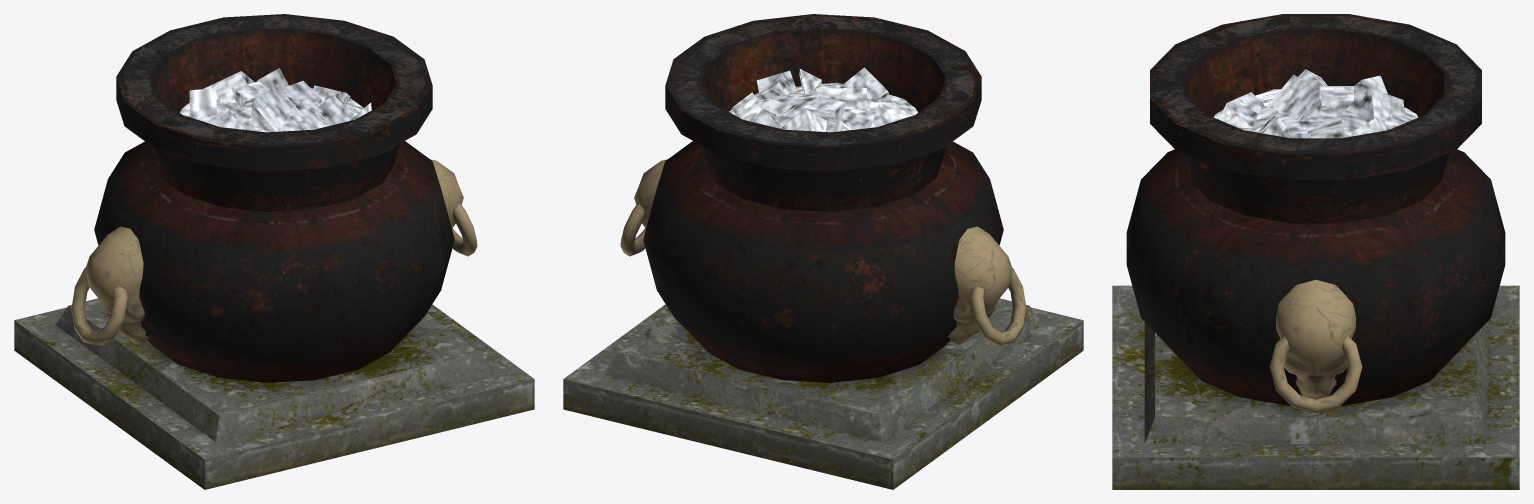
File: SM_Prop_Fire_Vase1.fbx
3 views of the same model, side by side, from view 1: azimuth 30°, elevation 25°; view 2: azimuth 150°, elevation 25°; view 3: azimuth 270°, elevation 25° (orthographic). The views are drawn at different scales.
Parts seen in each view (by area): view 1: SM_Prop_Fire_Vase1_LOD0; view 2: SM_Prop_Fire_Vase1_LOD0; view 3: SM_Prop_Fire_Vase1_LOD0.
Part boxes in pixels (<box>): SM_Prop_Fire_Vase1_LOD0: <box>14,14,534,489</box>; SM_Prop_Fire_Vase1_LOD0: <box>563,14,1083,489</box>; SM_Prop_Fire_Vase1_LOD0: <box>1112,14,1519,489</box>.
Bounding box in the file's own units: 218 × 188 × 163.
2 materials, 2 textured.
